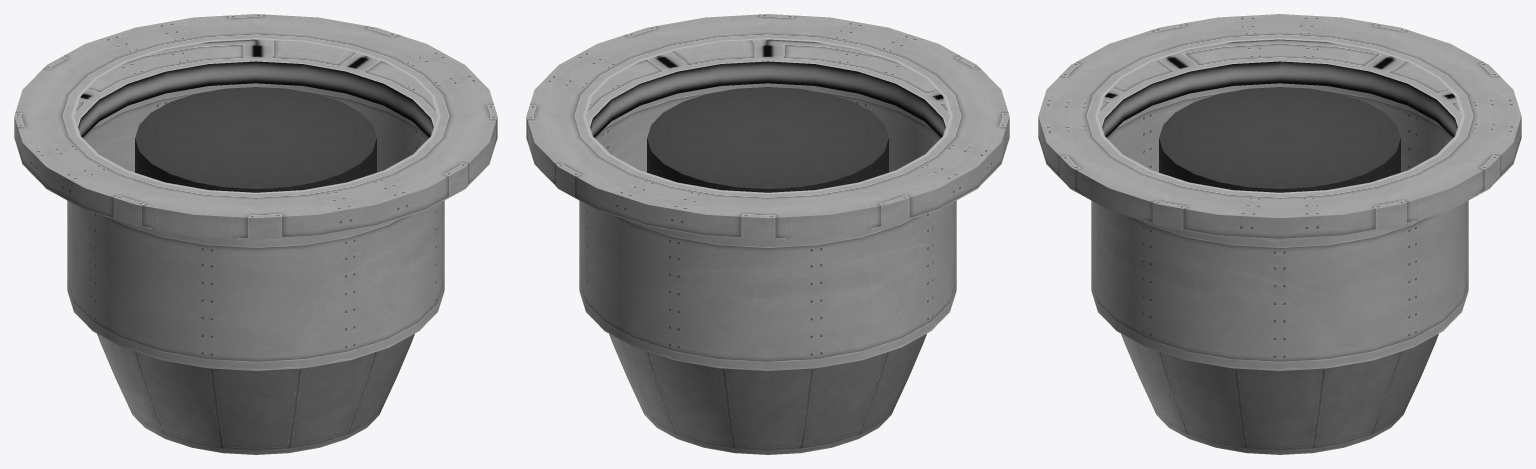
File: s2 big engine mount.obj
3 views of the same model, side by side, from view 1: azimuth 30°, elevation 25°; view 2: azimuth 150°, elevation 25°; view 3: azimuth 270°, elevation 25° (orthographic).
Visible parts, largest first — view 1: 2; view 2: 2; view 3: 2.
Part boxes in pixels (x1,y1,x2,y2): 2: [14, 14, 497, 454]; 2: [526, 14, 1009, 454]; 2: [1038, 14, 1521, 454].
Size of the model in its own units: 2.5 by 1.62 by 2.5.
1 material, 1 textured.
